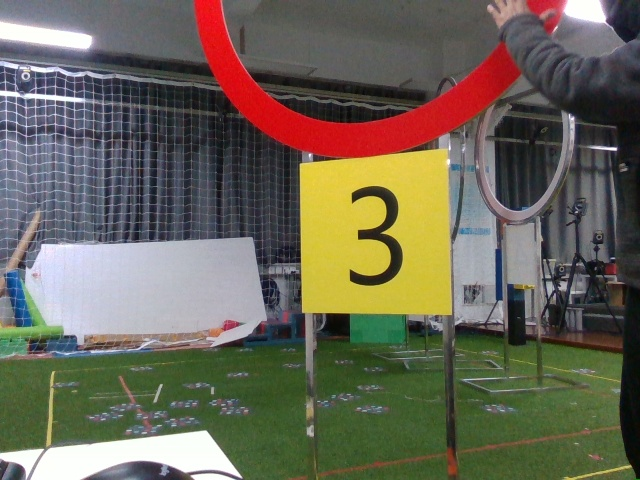target: (304, 163, 446, 310)
